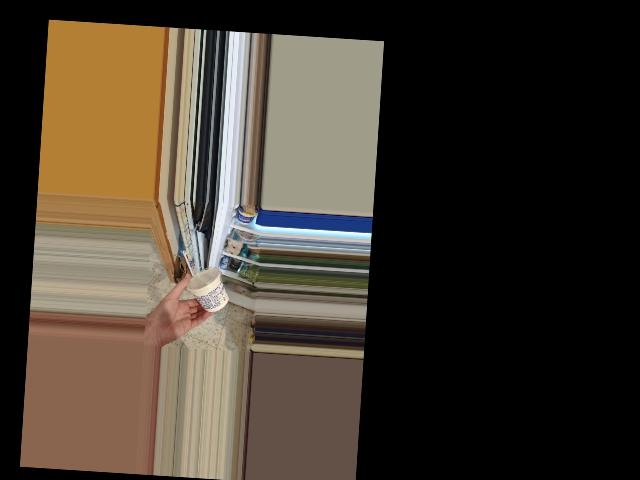cotage: (188, 265, 228, 308)
